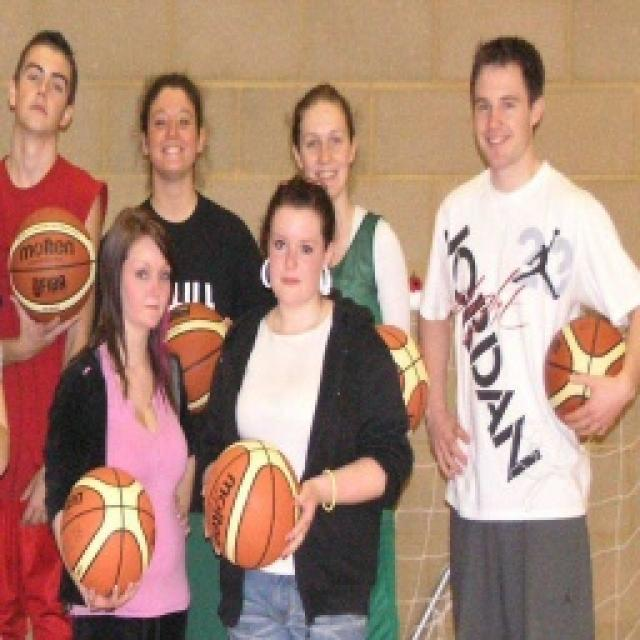rim: (53, 461, 163, 595), (202, 432, 305, 568), (532, 311, 636, 438), (146, 292, 245, 410), (3, 212, 93, 322), (364, 314, 438, 429)
